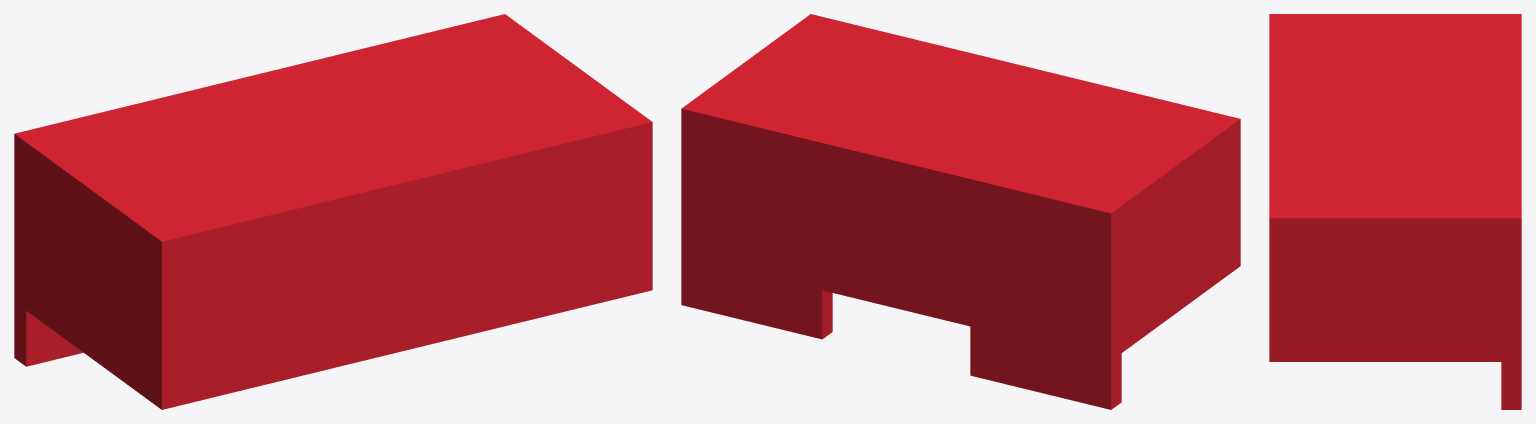
File: boelter1.obj
3 views of the same model, side by side, from view 1: azimuth 30°, elevation 25°; view 2: azimuth 150°, elevation 25°; view 3: azimuth 270°, elevation 25° (orthographic). The views are drawn at different scales.
Parts seen in each view (by area): view 1: obj_0; view 2: obj_0; view 3: obj_0.
Part boxes in pixels (x1,y1,x2,y2): obj_0: [14, 14, 652, 409]; obj_0: [681, 14, 1240, 409]; obj_0: [1269, 14, 1521, 409].
Size of the model in its own units: 119 by 52 by 62.
